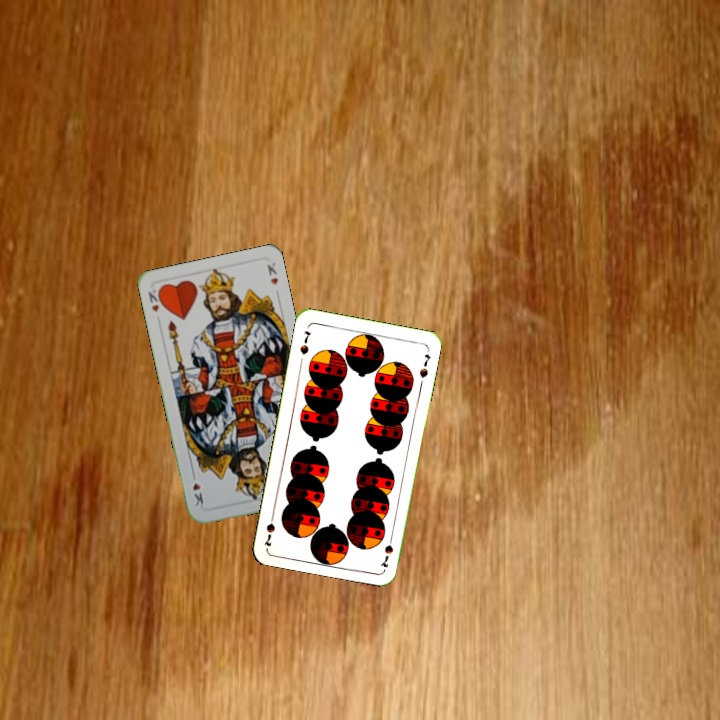HK: (144, 287, 161, 315)
S7: (376, 531, 396, 570), (296, 327, 313, 357)
